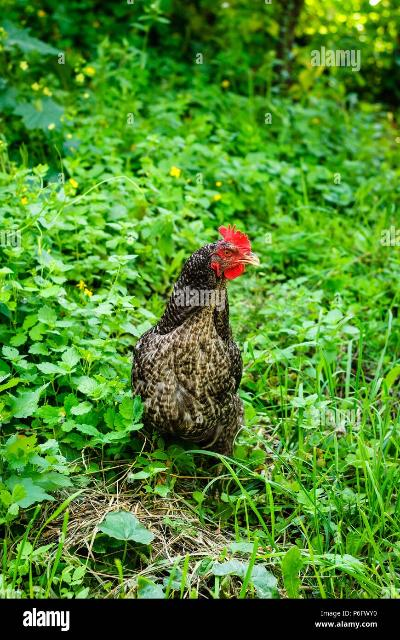Chicken: (134, 223, 261, 472)
